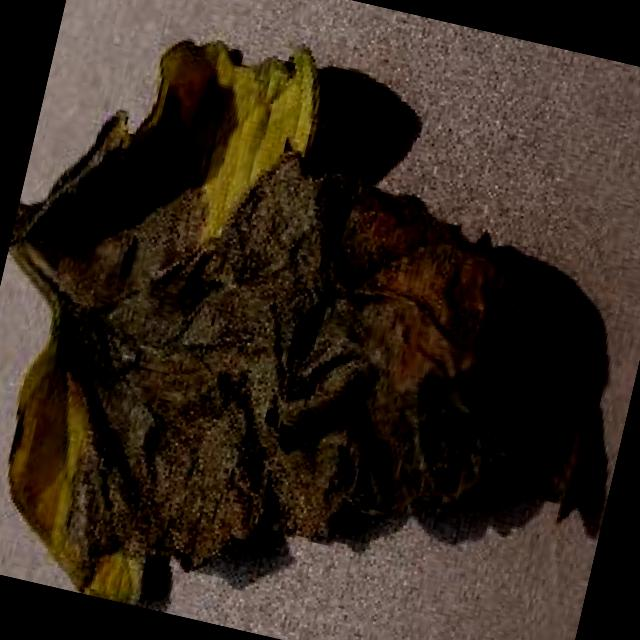leaf blight: (6, 35, 591, 602)
